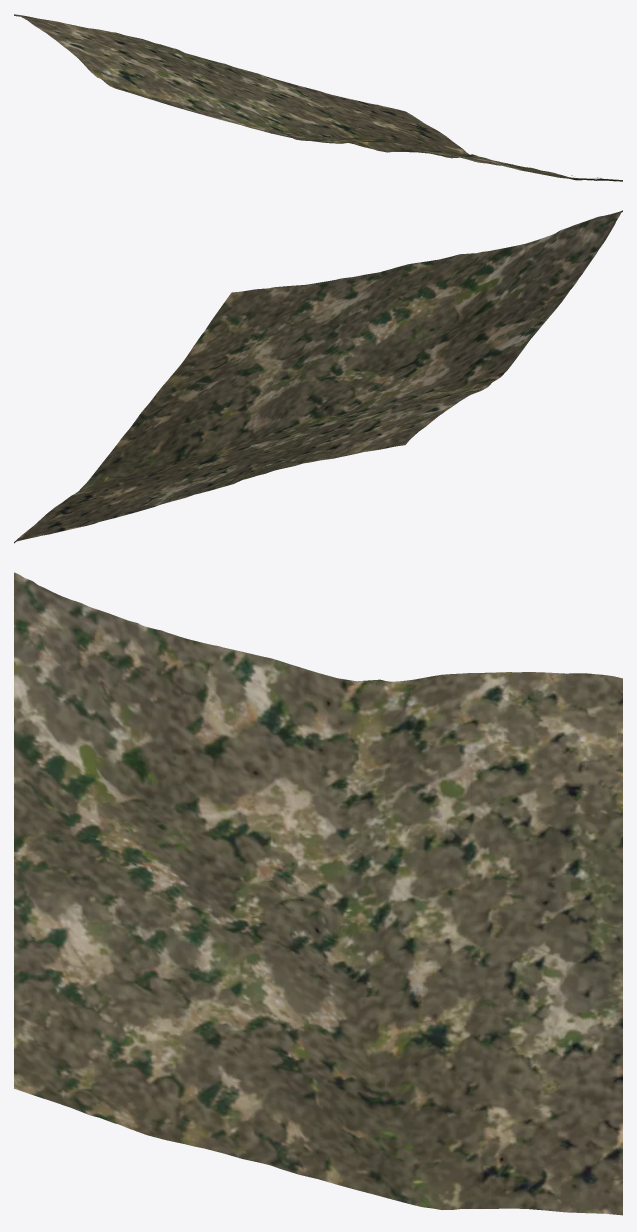
3 views of the same model, one above another, from view 1: azimuth 30°, elevation 25°; view 2: azimuth 150°, elevation 25°; view 3: azimuth 270°, elevation 25° (orthographic). The views are drawn at different scales.
Bounding box in the file's own units: 250 × 165 × 241.
1 material, 1 textured.
